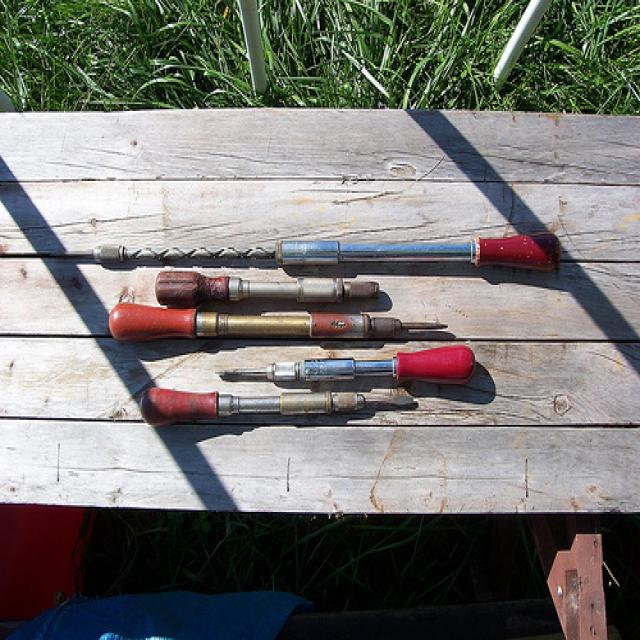screw driver: (101, 367, 454, 439), (103, 290, 468, 355)
